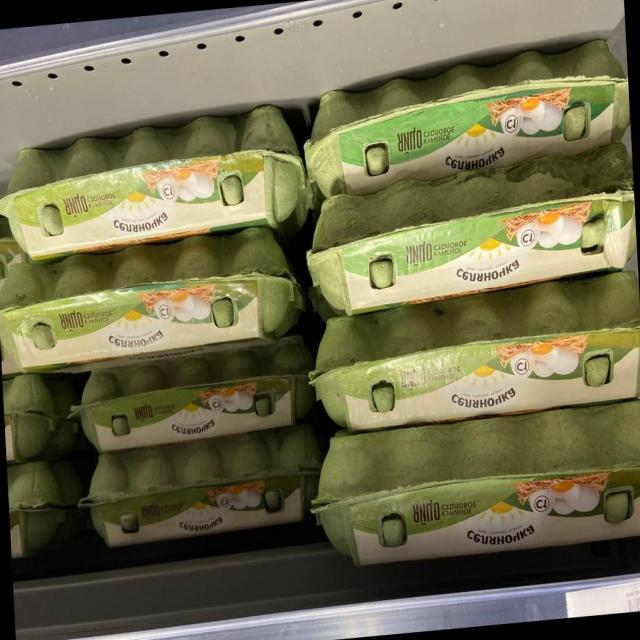organic waste: (305, 36, 633, 207), (305, 155, 638, 319), (316, 403, 640, 569), (311, 278, 639, 440), (0, 103, 310, 272), (0, 227, 306, 385), (74, 429, 326, 558), (69, 346, 318, 458), (7, 456, 73, 564), (2, 365, 68, 473)
